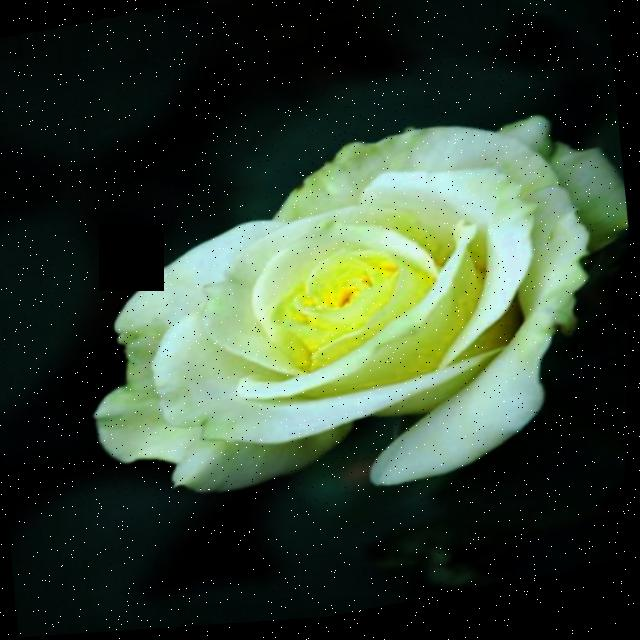rose: (12, 14, 639, 590)
